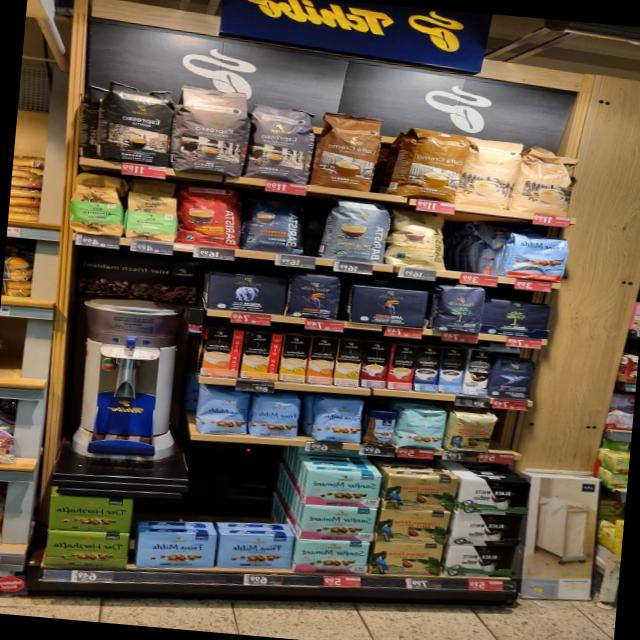AB Gemahlen: (206, 270, 291, 316)
Athiopien Bohne: (68, 182, 125, 237)
Athiopien Gemahlen: (123, 192, 179, 244)
BM Gemahlen: (449, 512, 526, 547), (458, 479, 529, 516), (441, 544, 517, 577)
BW Bohne: (429, 282, 487, 334)
BW Gemahlen: (481, 298, 552, 338)
Barista CB: (384, 204, 450, 271)
Barista CC: (319, 197, 391, 264)
Barista Espresso: (240, 190, 303, 255)
Barista Kolumbien: (176, 180, 246, 250)
C Fino Bohne: (488, 355, 538, 400)
CC Mild: (510, 142, 583, 217), (456, 135, 522, 210)
CC Vollmundig 36 Pads: (310, 109, 385, 192), (396, 124, 466, 203)
Colombia BB Bohne: (443, 410, 498, 454)
Colombia BB Gemahlen: (383, 474, 459, 511), (374, 508, 449, 544), (369, 541, 444, 576)
Empty Shelf: (196, 444, 290, 497), (444, 213, 502, 275), (136, 493, 217, 533), (214, 496, 293, 535), (492, 413, 528, 454)
Espresso Aromatisch: (171, 83, 253, 180), (245, 100, 318, 186)
Espresso Kraftig: (99, 78, 177, 170)
FM 36 Pads: (499, 229, 569, 282)
FM Bohne: (197, 388, 249, 437), (312, 395, 364, 444), (247, 393, 299, 439)
FM Gemahlen: (135, 532, 215, 568), (214, 534, 295, 569)
FM Instant: (362, 407, 398, 447)
Herzhatfe Mundig: (43, 531, 129, 569), (47, 494, 132, 532)
LG Bohne: (286, 271, 346, 320)
LG Gemahlen: (347, 283, 431, 328)
SM Bohne: (395, 406, 447, 451)
SM Gemahlen: (303, 469, 381, 508), (300, 505, 378, 541), (296, 539, 370, 574)
Simo CCMild: (239, 331, 282, 380)
Simo CCMild bigpack: (277, 333, 309, 382)
Simo CCVollmundig: (199, 327, 243, 377)
Simo CCVollmundig bigpack: (306, 335, 337, 385)
Simo Decaff: (332, 337, 365, 387)
Simo Es Brazil: (387, 343, 419, 391)
Simo Es Caramel: (359, 339, 392, 388)
Simo Es Elegant: (463, 348, 495, 395)
Simo Es Kraft: (413, 344, 442, 393)
Simo Es Vanilla: (438, 345, 466, 393)
